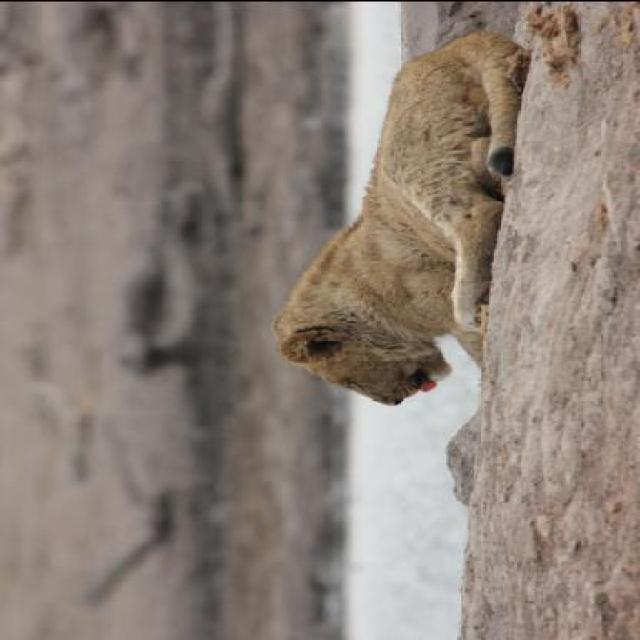Lion: (260, 1, 588, 418)
